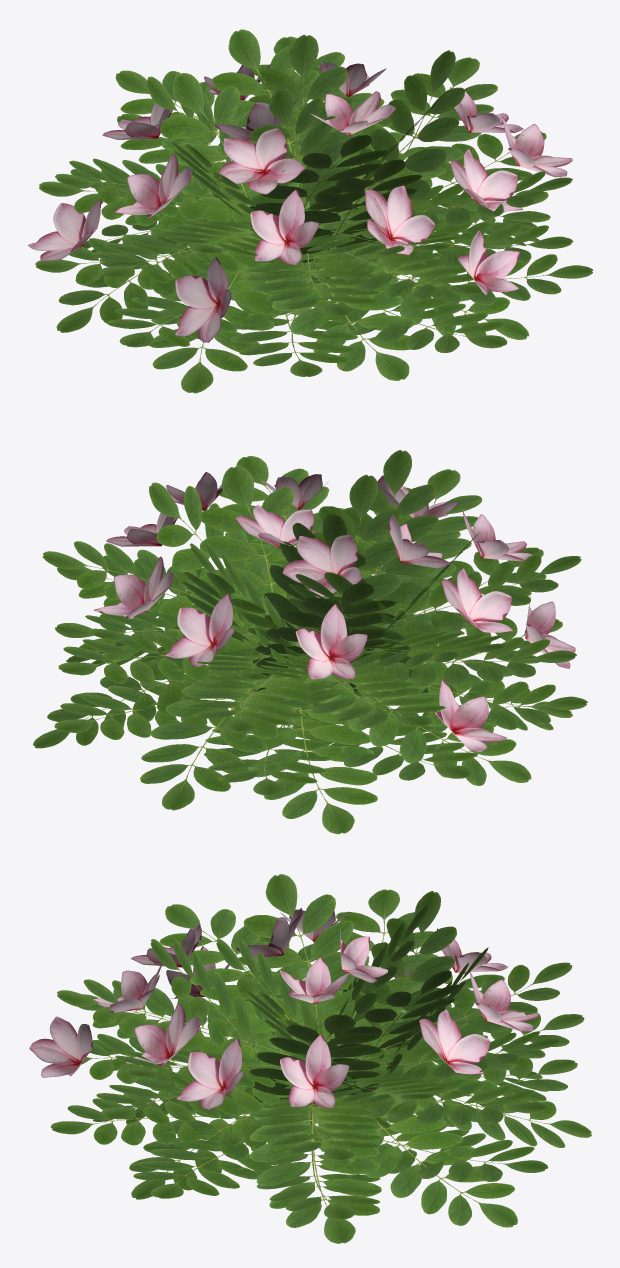
The model's file is bush2.FBX.
3 renders of one model, top to bottom at view 1: azimuth 30°, elevation 25°; view 2: azimuth 150°, elevation 25°; view 3: azimuth 270°, elevation 25°, orthographic. The views are drawn at different scales.
Parts seen in each view (by area): view 1: Box001; view 2: Box001; view 3: Box001.
Boxes of the visible parts, x1,y1,x2,y2 form: Box001: [27, 29, 593, 393]; Box001: [33, 450, 587, 834]; Box001: [29, 874, 591, 1243].
Bounding box in the file's own units: 4.03 × 1.72 × 4.24.
